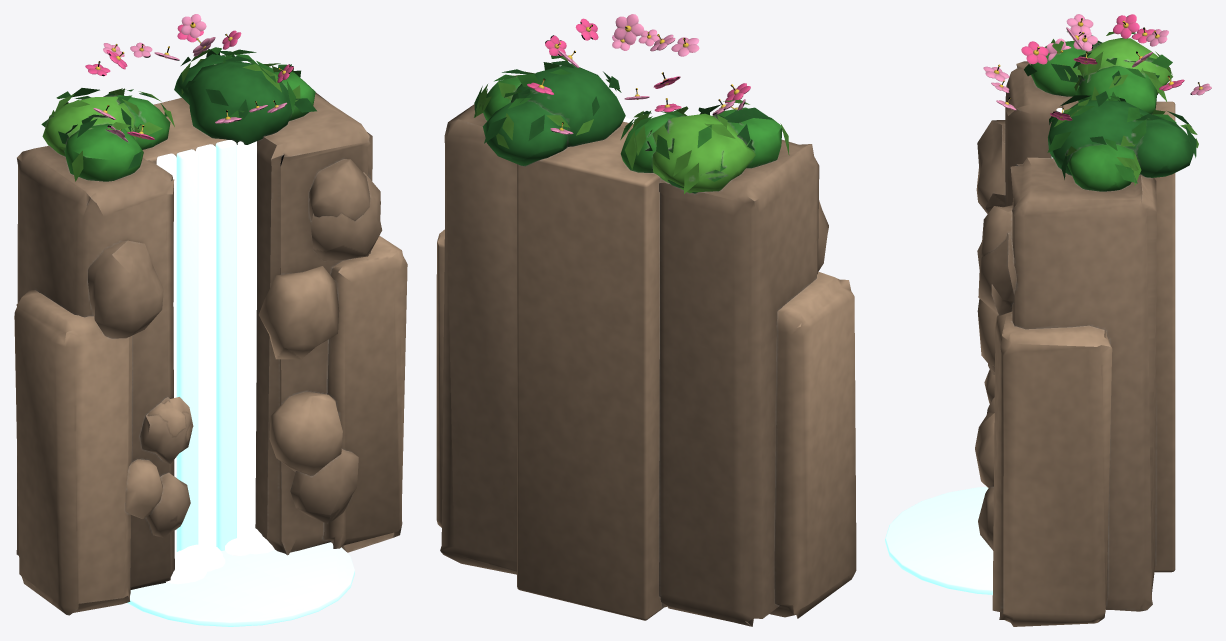
Rendered from en_waterfall.glb.
The picture shows the model from 3 angles, left to right: view 1: azimuth 30°, elevation 25°; view 2: azimuth 150°, elevation 25°; view 3: azimuth 270°, elevation 25°; orthographic projection. The views are drawn at different scales.
Parts seen in each view (by area): view 1: en_waterfall; view 2: en_waterfall; view 3: en_waterfall.
Boxes of the visible parts, box(x1,y1,x2,y2) form: en_waterfall: box(14, 14, 407, 626); en_waterfall: box(436, 14, 856, 626); en_waterfall: box(885, 14, 1211, 626).
Bounding box in the file's own units: 14.31 × 20.3 × 11.48.
10 materials, 10 textured.
